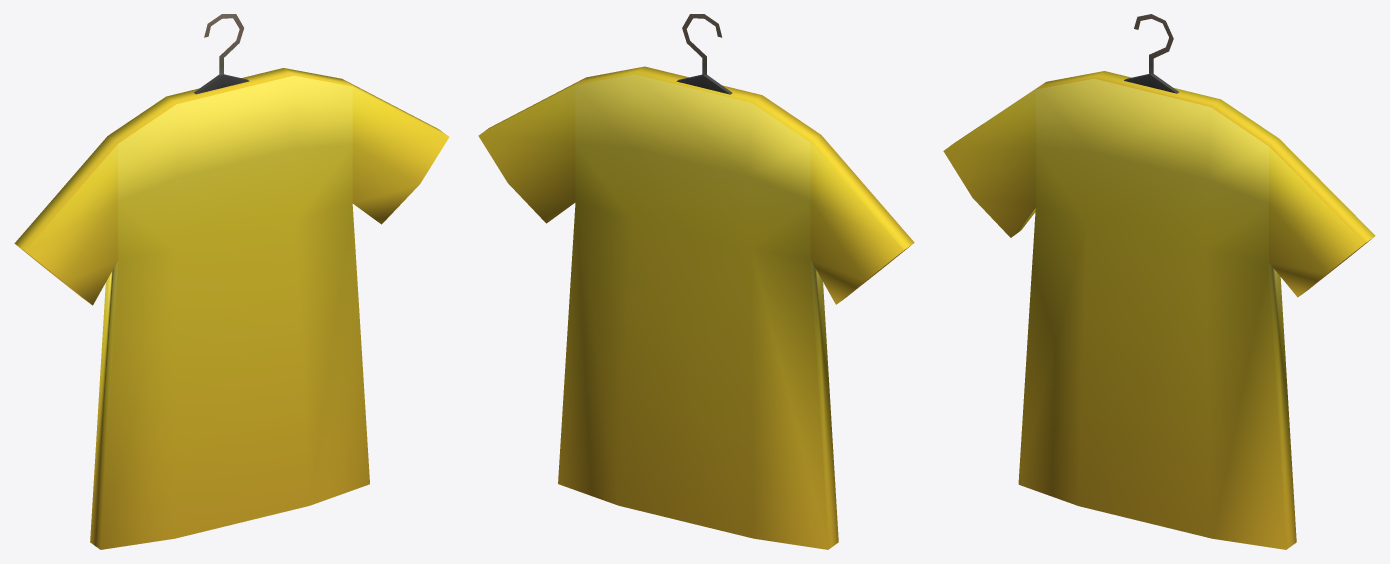
The model's file is Hang_Tshirt_02.fbx.
The picture shows the model from 3 angles, left to right: view 1: azimuth 30°, elevation 25°; view 2: azimuth 150°, elevation 25°; view 3: azimuth 330°, elevation 25°; orthographic projection.
Parts seen in each view (by area): view 1: Hang_Tshirt_02; view 2: Hang_Tshirt_02; view 3: Hang_Tshirt_02.
Boxes of the visible parts, <box> form: Hang_Tshirt_02: <box>14,14,449,549</box>; Hang_Tshirt_02: <box>478,14,914,549</box>; Hang_Tshirt_02: <box>943,14,1375,549</box>.
Bounding box in the file's own units: 0.2155 × 0.2426 × 0.0216.
